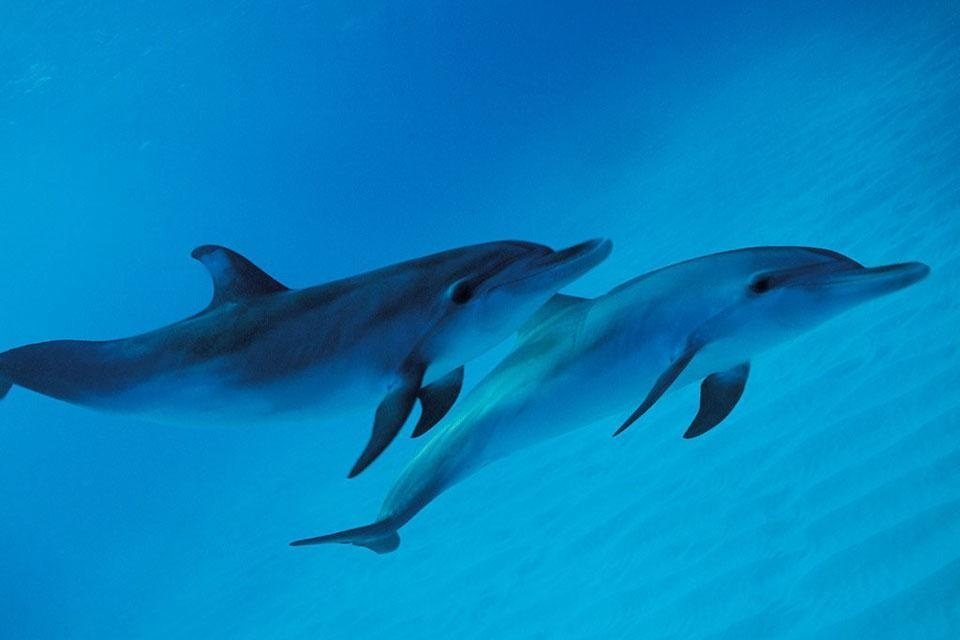fish: (287, 249, 931, 558), (5, 227, 616, 440)
